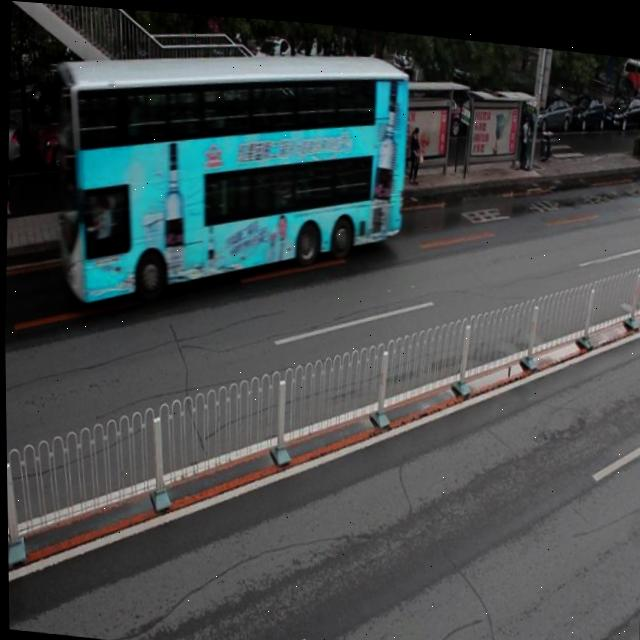car: (34, 95, 130, 177), (136, 91, 238, 160), (320, 76, 405, 147), (227, 105, 297, 185), (241, 80, 316, 149), (6, 115, 23, 175)
van: (45, 17, 412, 331)
